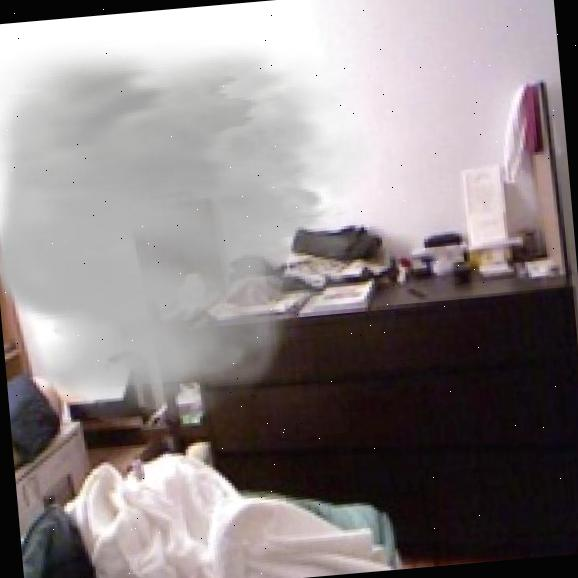smoke: (0, 11, 413, 439)
